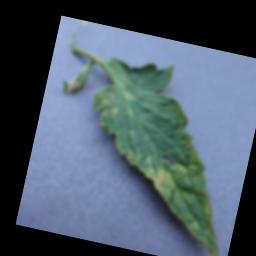Leaf_Mold: (118, 146, 186, 205)
